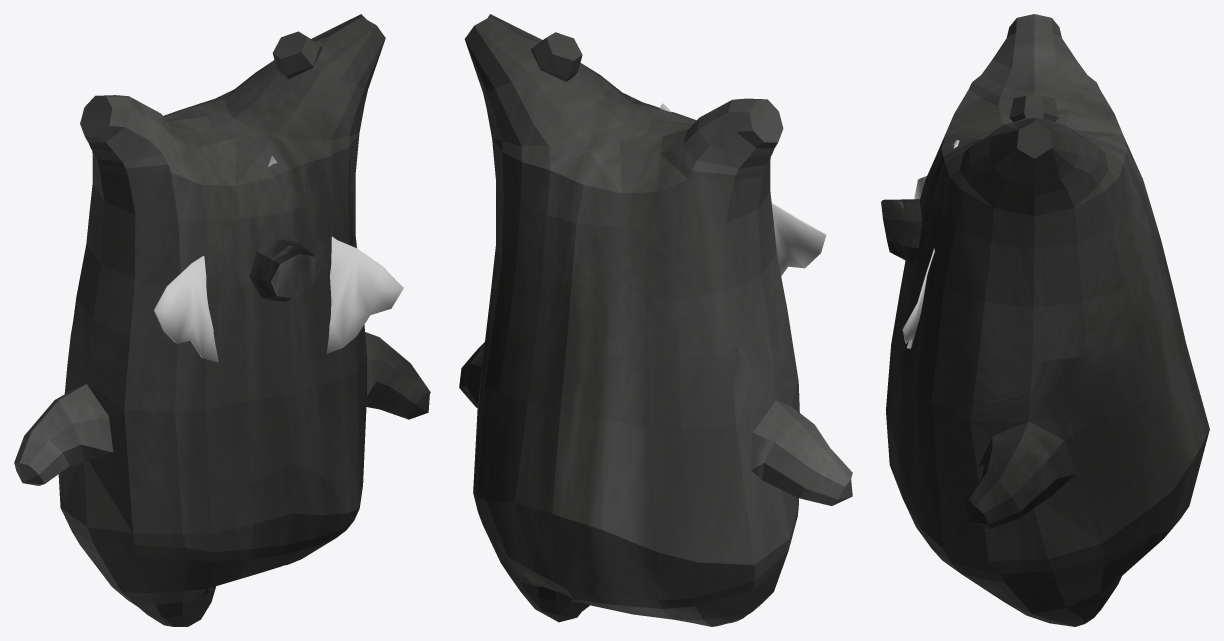
The model's file is frame_0015.obj.
The picture shows the model from 3 angles, left to right: view 1: azimuth 30°, elevation 25°; view 2: azimuth 150°, elevation 25°; view 3: azimuth 270°, elevation 25°; orthographic projection. The views are drawn at different scales.
Visible parts, largest first — view 1: korok, leaf, nose; view 2: korok, leaf; view 3: korok, nose, leaf.
Boxes of the visible parts, box(x1,y1,x2,y2) form: korok: box(14, 14, 430, 626); leaf: box(153, 155, 403, 362); nose: box(249, 238, 319, 301); korok: box(459, 14, 852, 626); leaf: box(660, 103, 826, 275); korok: box(886, 14, 1209, 626); nose: box(881, 199, 922, 263); leaf: box(902, 140, 959, 348).
Size of the model in its own units: 1.62 by 2.17 by 1.18.
